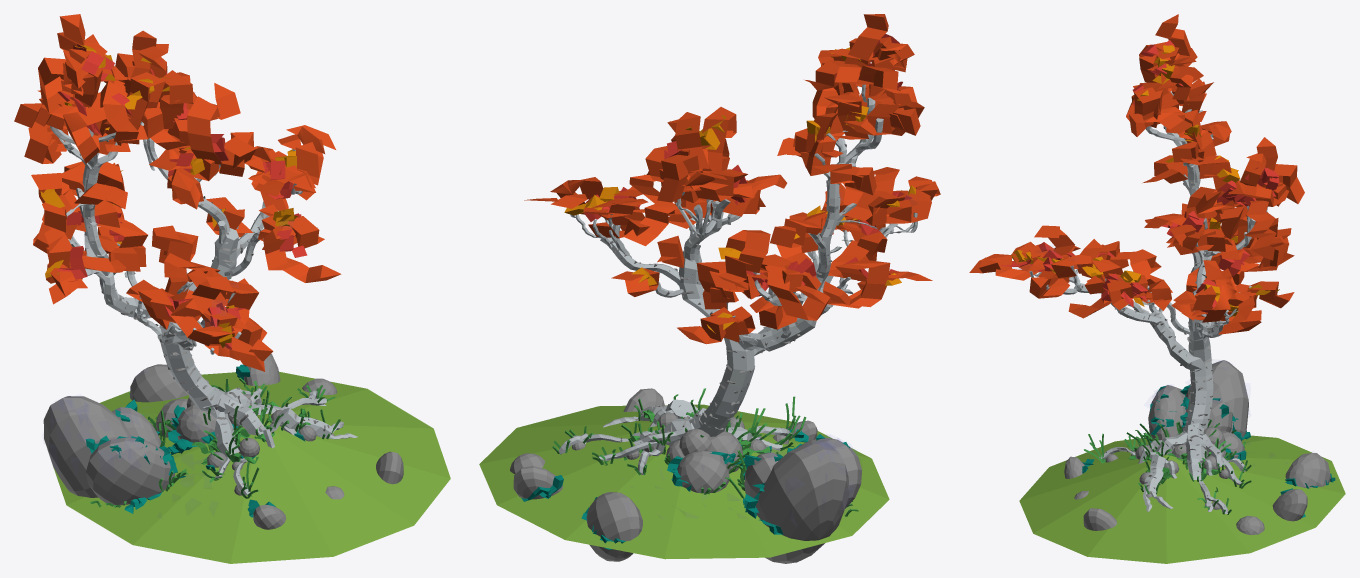
3 renders of one model, left to right at view 1: azimuth 30°, elevation 25°; view 2: azimuth 150°, elevation 25°; view 3: azimuth 270°, elevation 25°, orthographic. The views are drawn at different scales.
Visible parts, largest first — view 1: node_MeshObject-1475797376-PolyPaper22, node_MeshObject-957077312-PolyPaper22, node_MeshObject-1381404608-PolyPaper22, node_MeshObject690412480-PolyPaper22, node_MeshObject729715712-PolyPaper22, node_MeshObject-680740928-PolyPaper15, node_MeshObject370776384-PolyPaper10, node_MeshObject-1199460992-PolyPaper15; view 2: node_MeshObject-957077312-PolyPaper22, node_MeshObject-1475797376-PolyPaper22, node_MeshObject690412480-PolyPaper22, node_MeshObject-1381404608-PolyPaper22, node_MeshObject-680740928-PolyPaper15, node_MeshObject729715712-PolyPaper22, node_MeshObject-1199460992-PolyPaper15, node_MeshObject370776384-PolyPaper10; view 3: node_MeshObject-1475797376-PolyPaper22, node_MeshObject-957077312-PolyPaper22, node_MeshObject-1381404608-PolyPaper22, node_MeshObject690412480-PolyPaper22, node_MeshObject729715712-PolyPaper22, node_MeshObject-680740928-PolyPaper15, node_MeshObject370776384-PolyPaper10, node_MeshObject-1199460992-PolyPaper15.
Boxes of the visible parts, x1=… form: node_MeshObject-1475797376-PolyPaper22: x1=52, y1=371, x2=450, y2=563; node_MeshObject-957077312-PolyPaper22: x1=14, y1=14, x2=335, y2=470; node_MeshObject-1381404608-PolyPaper22: x1=83, y1=151, x2=341, y2=484; node_MeshObject690412480-PolyPaper22: x1=43, y1=354, x2=403, y2=529; node_MeshObject729715712-PolyPaper22: x1=40, y1=44, x2=325, y2=431; node_MeshObject-680740928-PolyPaper15: x1=69, y1=128, x2=357, y2=495; node_MeshObject370776384-PolyPaper10: x1=148, y1=109, x2=318, y2=498; node_MeshObject-1199460992-PolyPaper15: x1=50, y1=121, x2=269, y2=354; node_MeshObject-957077312-PolyPaper22: x1=524, y1=14, x2=932, y2=493; node_MeshObject-1475797376-PolyPaper22: x1=479, y1=388, x2=889, y2=559; node_MeshObject690412480-PolyPaper22: x1=510, y1=388, x2=862, y2=563; node_MeshObject-1381404608-PolyPaper22: x1=583, y1=167, x2=940, y2=442; node_MeshObject-680740928-PolyPaper15: x1=559, y1=134, x2=873, y2=474; node_MeshObject729715712-PolyPaper22: x1=562, y1=34, x2=915, y2=463; node_MeshObject-1199460992-PolyPaper15: x1=600, y1=68, x2=913, y2=345; node_MeshObject370776384-PolyPaper10: x1=630, y1=209, x2=852, y2=494; node_MeshObject-1475797376-PolyPaper22: x1=1019, y1=419, x2=1345, y2=563; node_MeshObject-957077312-PolyPaper22: x1=1084, y1=14, x2=1304, y2=460; node_MeshObject-1381404608-PolyPaper22: x1=969, y1=164, x2=1213, y2=496; node_MeshObject690412480-PolyPaper22: x1=1064, y1=360, x2=1335, y2=534; node_MeshObject729715712-PolyPaper22: x1=1001, y1=40, x2=1279, y2=507; node_MeshObject-680740928-PolyPaper15: x1=1029, y1=125, x2=1267, y2=513; node_MeshObject370776384-PolyPaper10: x1=1084, y1=191, x2=1246, y2=481; node_MeshObject-1199460992-PolyPaper15: x1=1034, y1=91, x2=1267, y2=337.
Bounding box in the file's own units: 1.67 × 2.13 × 1.65.
